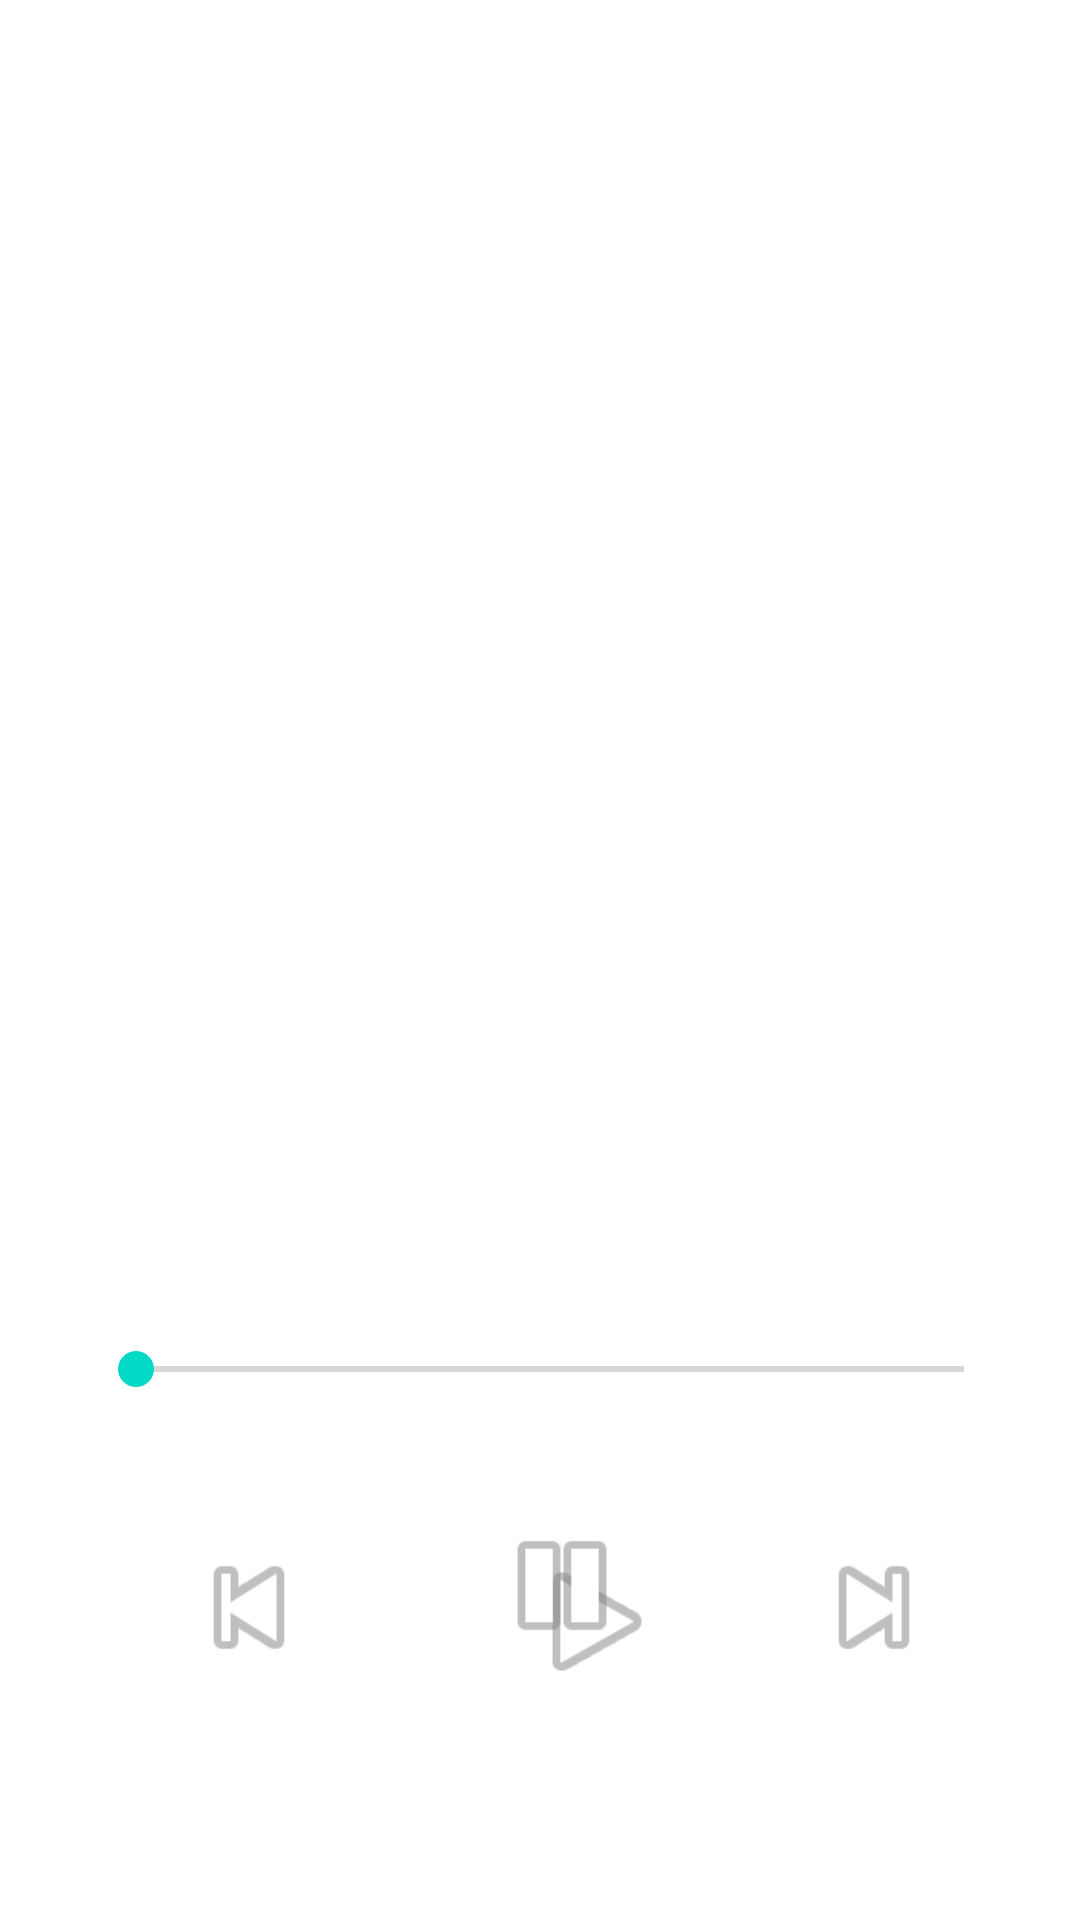

Screen size 1080*1920. Icon name, then its box in pixels as (x1, y1, x2, y2):
next: (839, 1566, 909, 1649)
previous: (214, 1566, 284, 1649)
